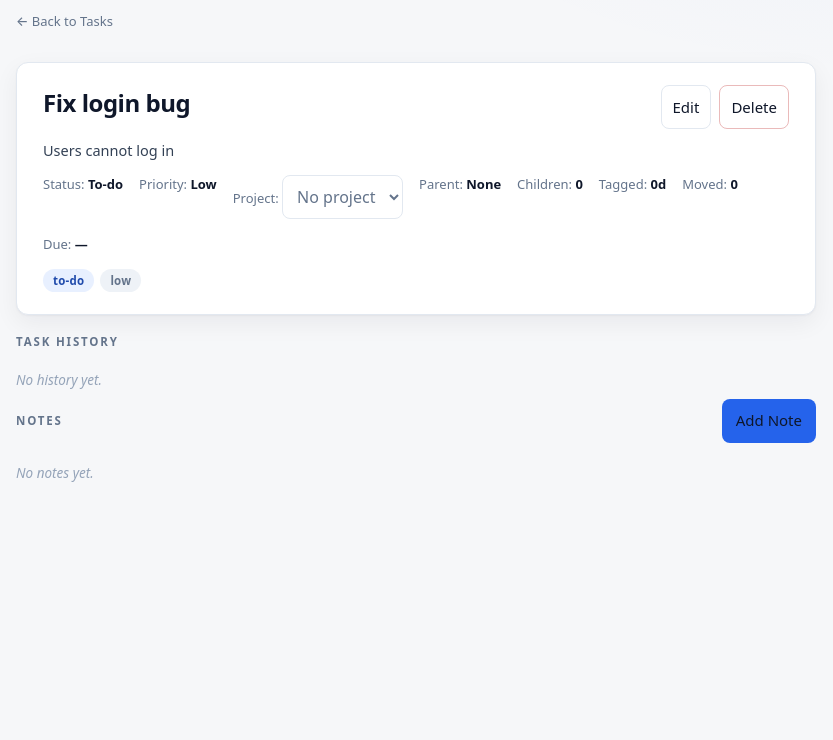
Scenario: TaskDetailPage › edit button renders TaskForm with pre-populated title
Step 1. Click the button "Edit" → (686, 107), box [660,85,711,129]
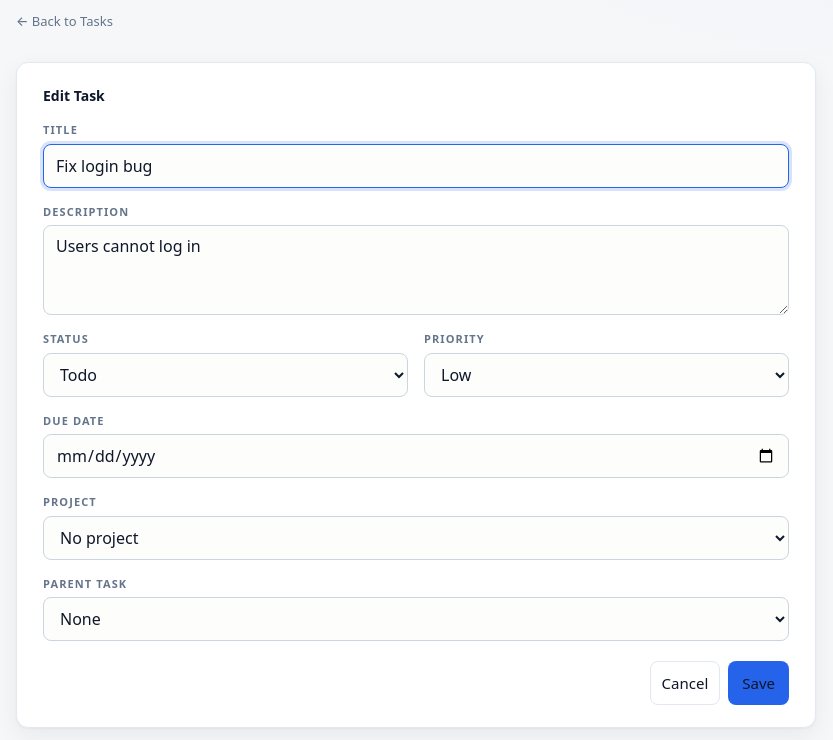
Expected: the field labelled "Title" holds "Fix login bug", [43,144,789,188]
